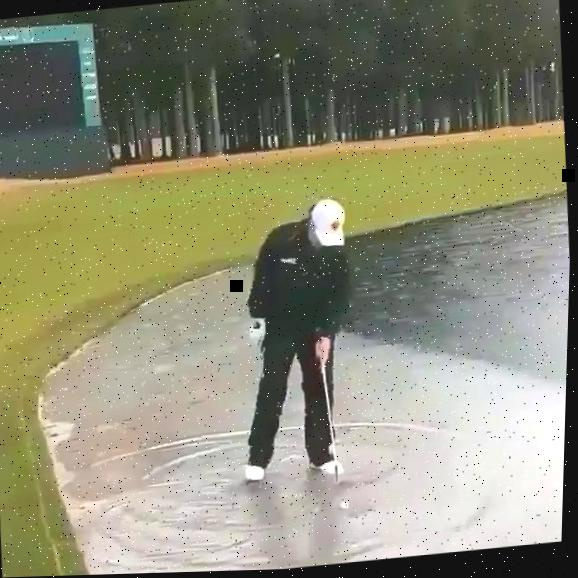GolfBall: (343, 503, 354, 512)
